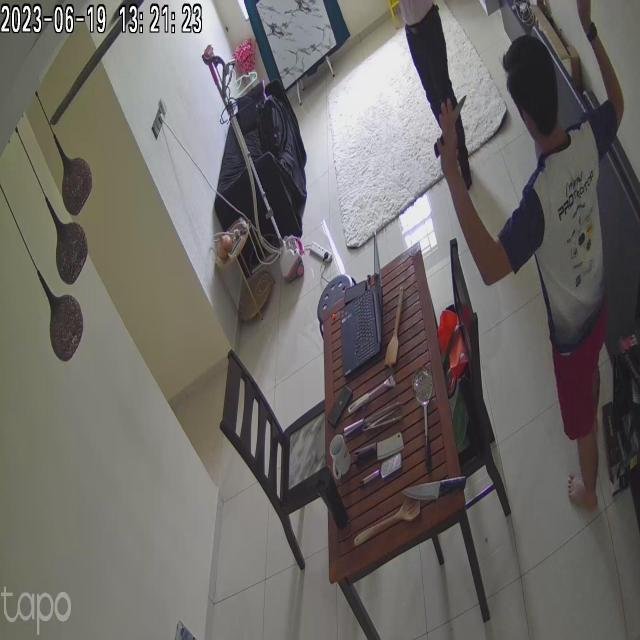Knife: (424, 88, 475, 154)
